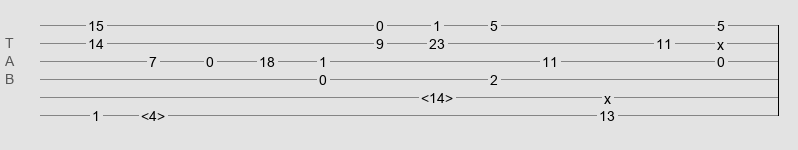0: (206, 54, 214, 64), (319, 72, 327, 82), (376, 18, 384, 28), (717, 54, 725, 64)
1: (92, 108, 100, 118), (319, 54, 327, 64), (433, 18, 441, 28)
11: (542, 54, 558, 64), (656, 36, 672, 46)
13: (599, 108, 615, 118)
14: (88, 36, 104, 46)
15: (88, 18, 104, 28)
18: (259, 54, 275, 64)
2: (490, 72, 498, 82)
23: (429, 36, 445, 46)
5: (490, 18, 498, 28), (717, 18, 725, 28)
7: (149, 54, 157, 64)
9: (376, 36, 384, 46)
harmonic: (421, 90, 453, 100), (141, 108, 165, 118)
x: (604, 91, 611, 99), (717, 37, 724, 45)
